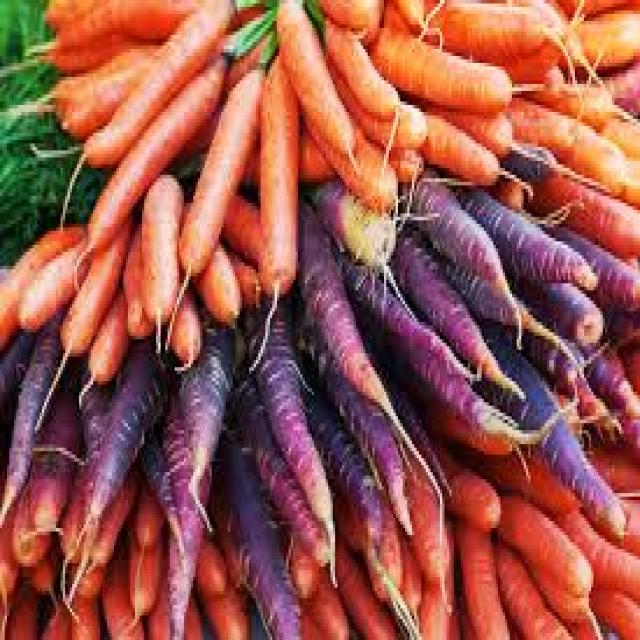Carrot: (74, 63, 242, 220), (72, 17, 225, 125), (370, 14, 514, 119), (257, 46, 306, 312), (275, 7, 362, 151), (396, 107, 513, 198), (496, 499, 593, 597), (57, 238, 130, 356), (326, 20, 404, 124), (13, 247, 103, 314), (77, 284, 134, 381), (149, 172, 179, 320), (199, 234, 247, 325), (169, 276, 204, 372), (442, 477, 496, 522)
